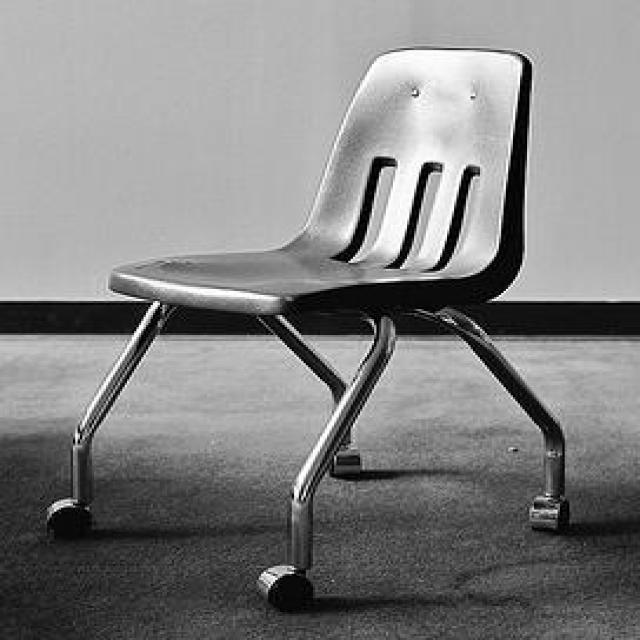chair: (50, 45, 610, 605)
